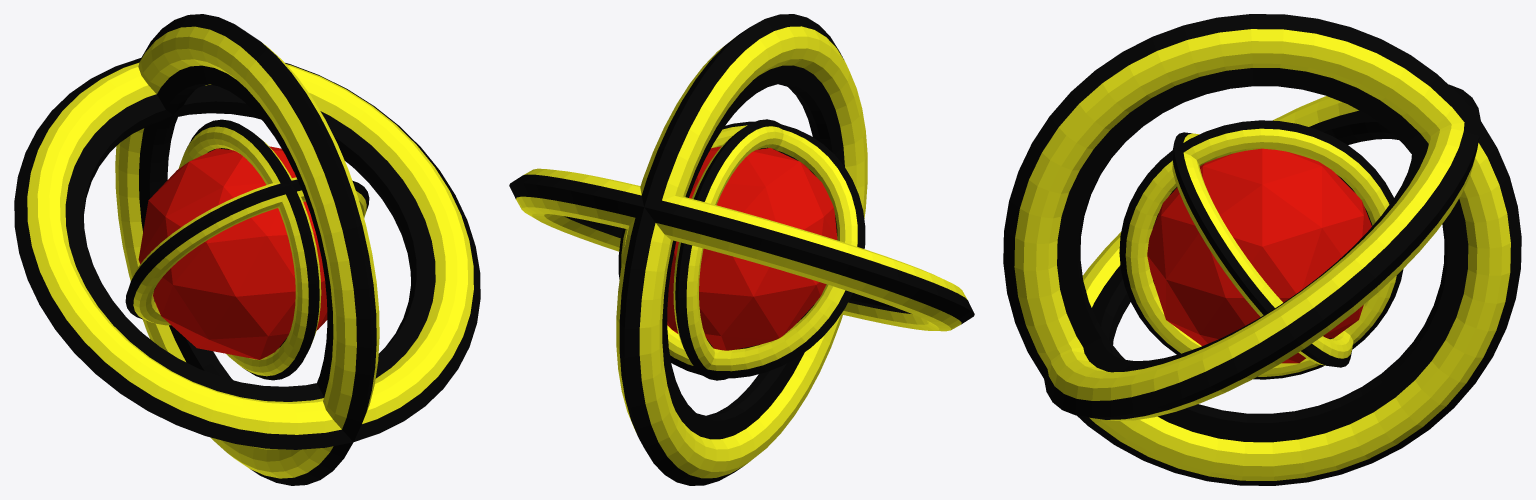
The model's file is SpaceAtom.fbx.
3 views of the same model, side by side, from view 1: azimuth 30°, elevation 25°; view 2: azimuth 150°, elevation 25°; view 3: azimuth 270°, elevation 25° (orthographic). The views are drawn at different scales.
Visible parts, largest first — view 1: Torus.001; view 2: Torus.001; view 3: Torus.001.
Part boxes in pixels (<box>): Torus.001: <box>14,14,480,485</box>; Torus.001: <box>509,14,974,485</box>; Torus.001: <box>1003,14,1521,485</box>.
Bounding box in the file's own units: 435 × 435 × 435.
